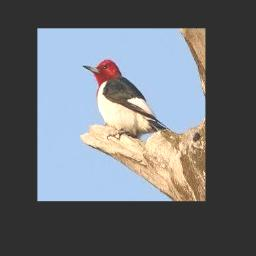Woodpecker: (83, 59, 167, 135)
